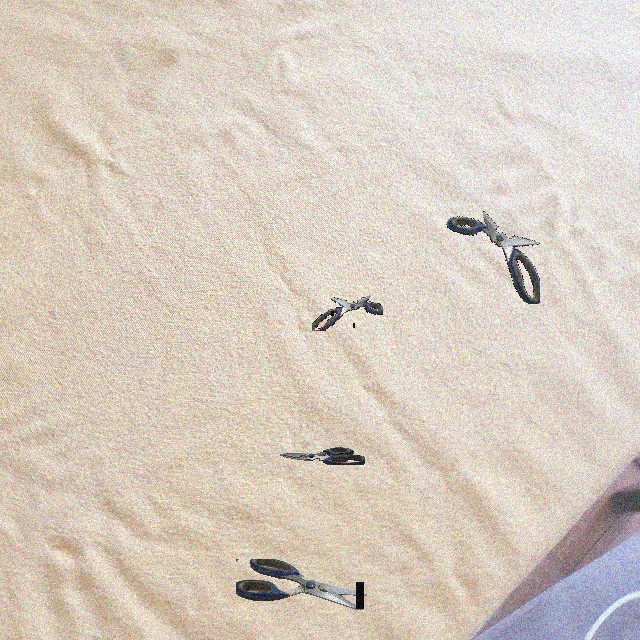scissors: (446, 211, 540, 304), (236, 559, 367, 610), (312, 295, 383, 331), (280, 447, 365, 465)
